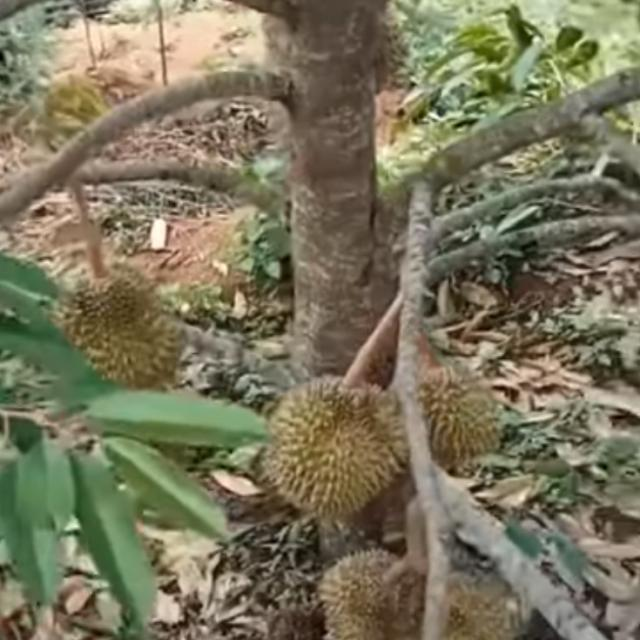mature: (261, 367, 409, 525), (56, 259, 190, 392)
